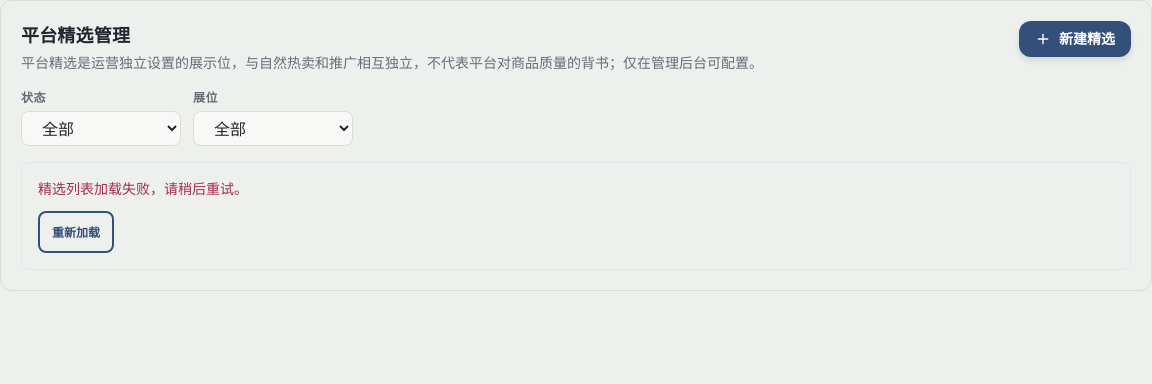
AdminEditorialManager › shows a server error on reject and recovers via 重新加载 into the empty state
This screenshot has width=1152, height=384.
Expected: the message shows "精选列表加载失败，请稍后重试。", [38,180,248,197]
retry re-issues the same exact query
Click the button "重新加载" at [76, 232], box [38,211,114,253]
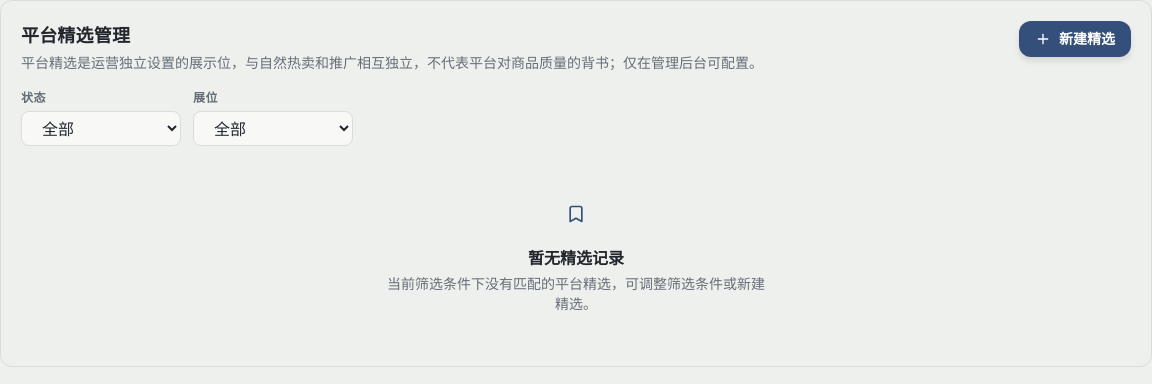
Now the text "暂无精选记录" is shown, box [528,246,624,270]
Now the message "精选列表加载失败，请稍后重试。 重新加载" is gone
